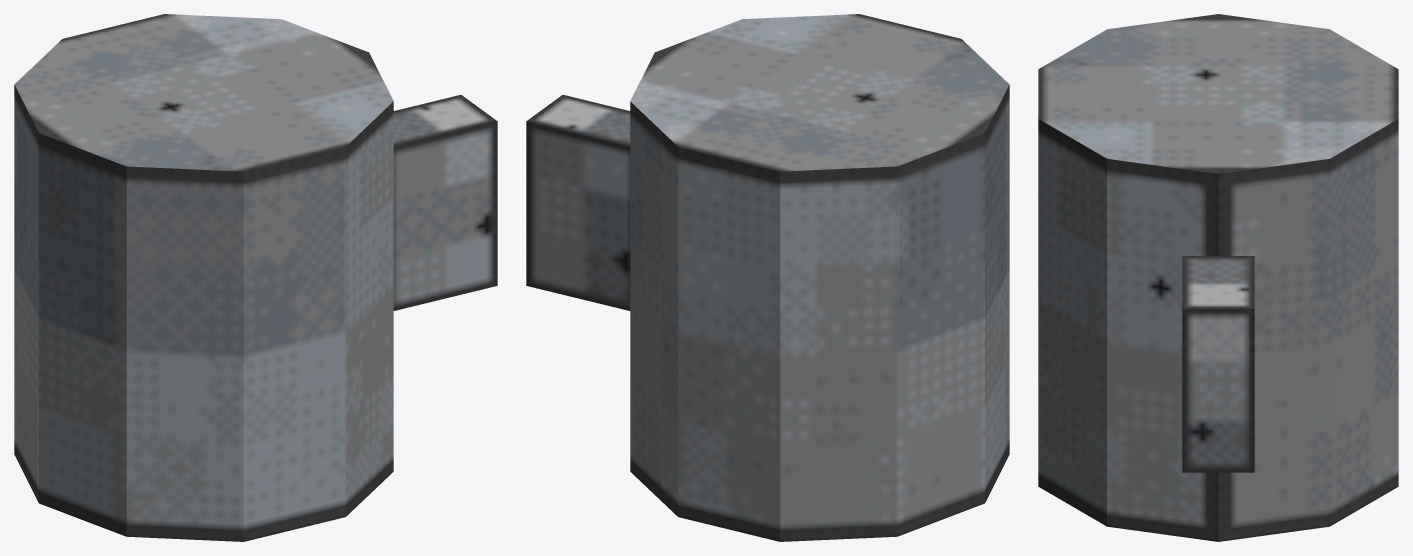
The model's file is SM_Mug_Enamel_01.fbx.
The picture shows the model from 3 angles, left to right: view 1: azimuth 30°, elevation 25°; view 2: azimuth 150°, elevation 25°; view 3: azimuth 270°, elevation 25°; orthographic projection.
Parts seen in each view (by area): view 1: SM_Mug_Enamel_01; view 2: SM_Mug_Enamel_01; view 3: SM_Mug_Enamel_01.
Part boxes in pixels (<box>): SM_Mug_Enamel_01: <box>14,14,497,541</box>; SM_Mug_Enamel_01: <box>526,14,1009,541</box>; SM_Mug_Enamel_01: <box>1038,14,1398,541</box>.
Bounding box in the file's own units: 0.112 × 0.09 × 0.0799.
1 material, 1 textured.
